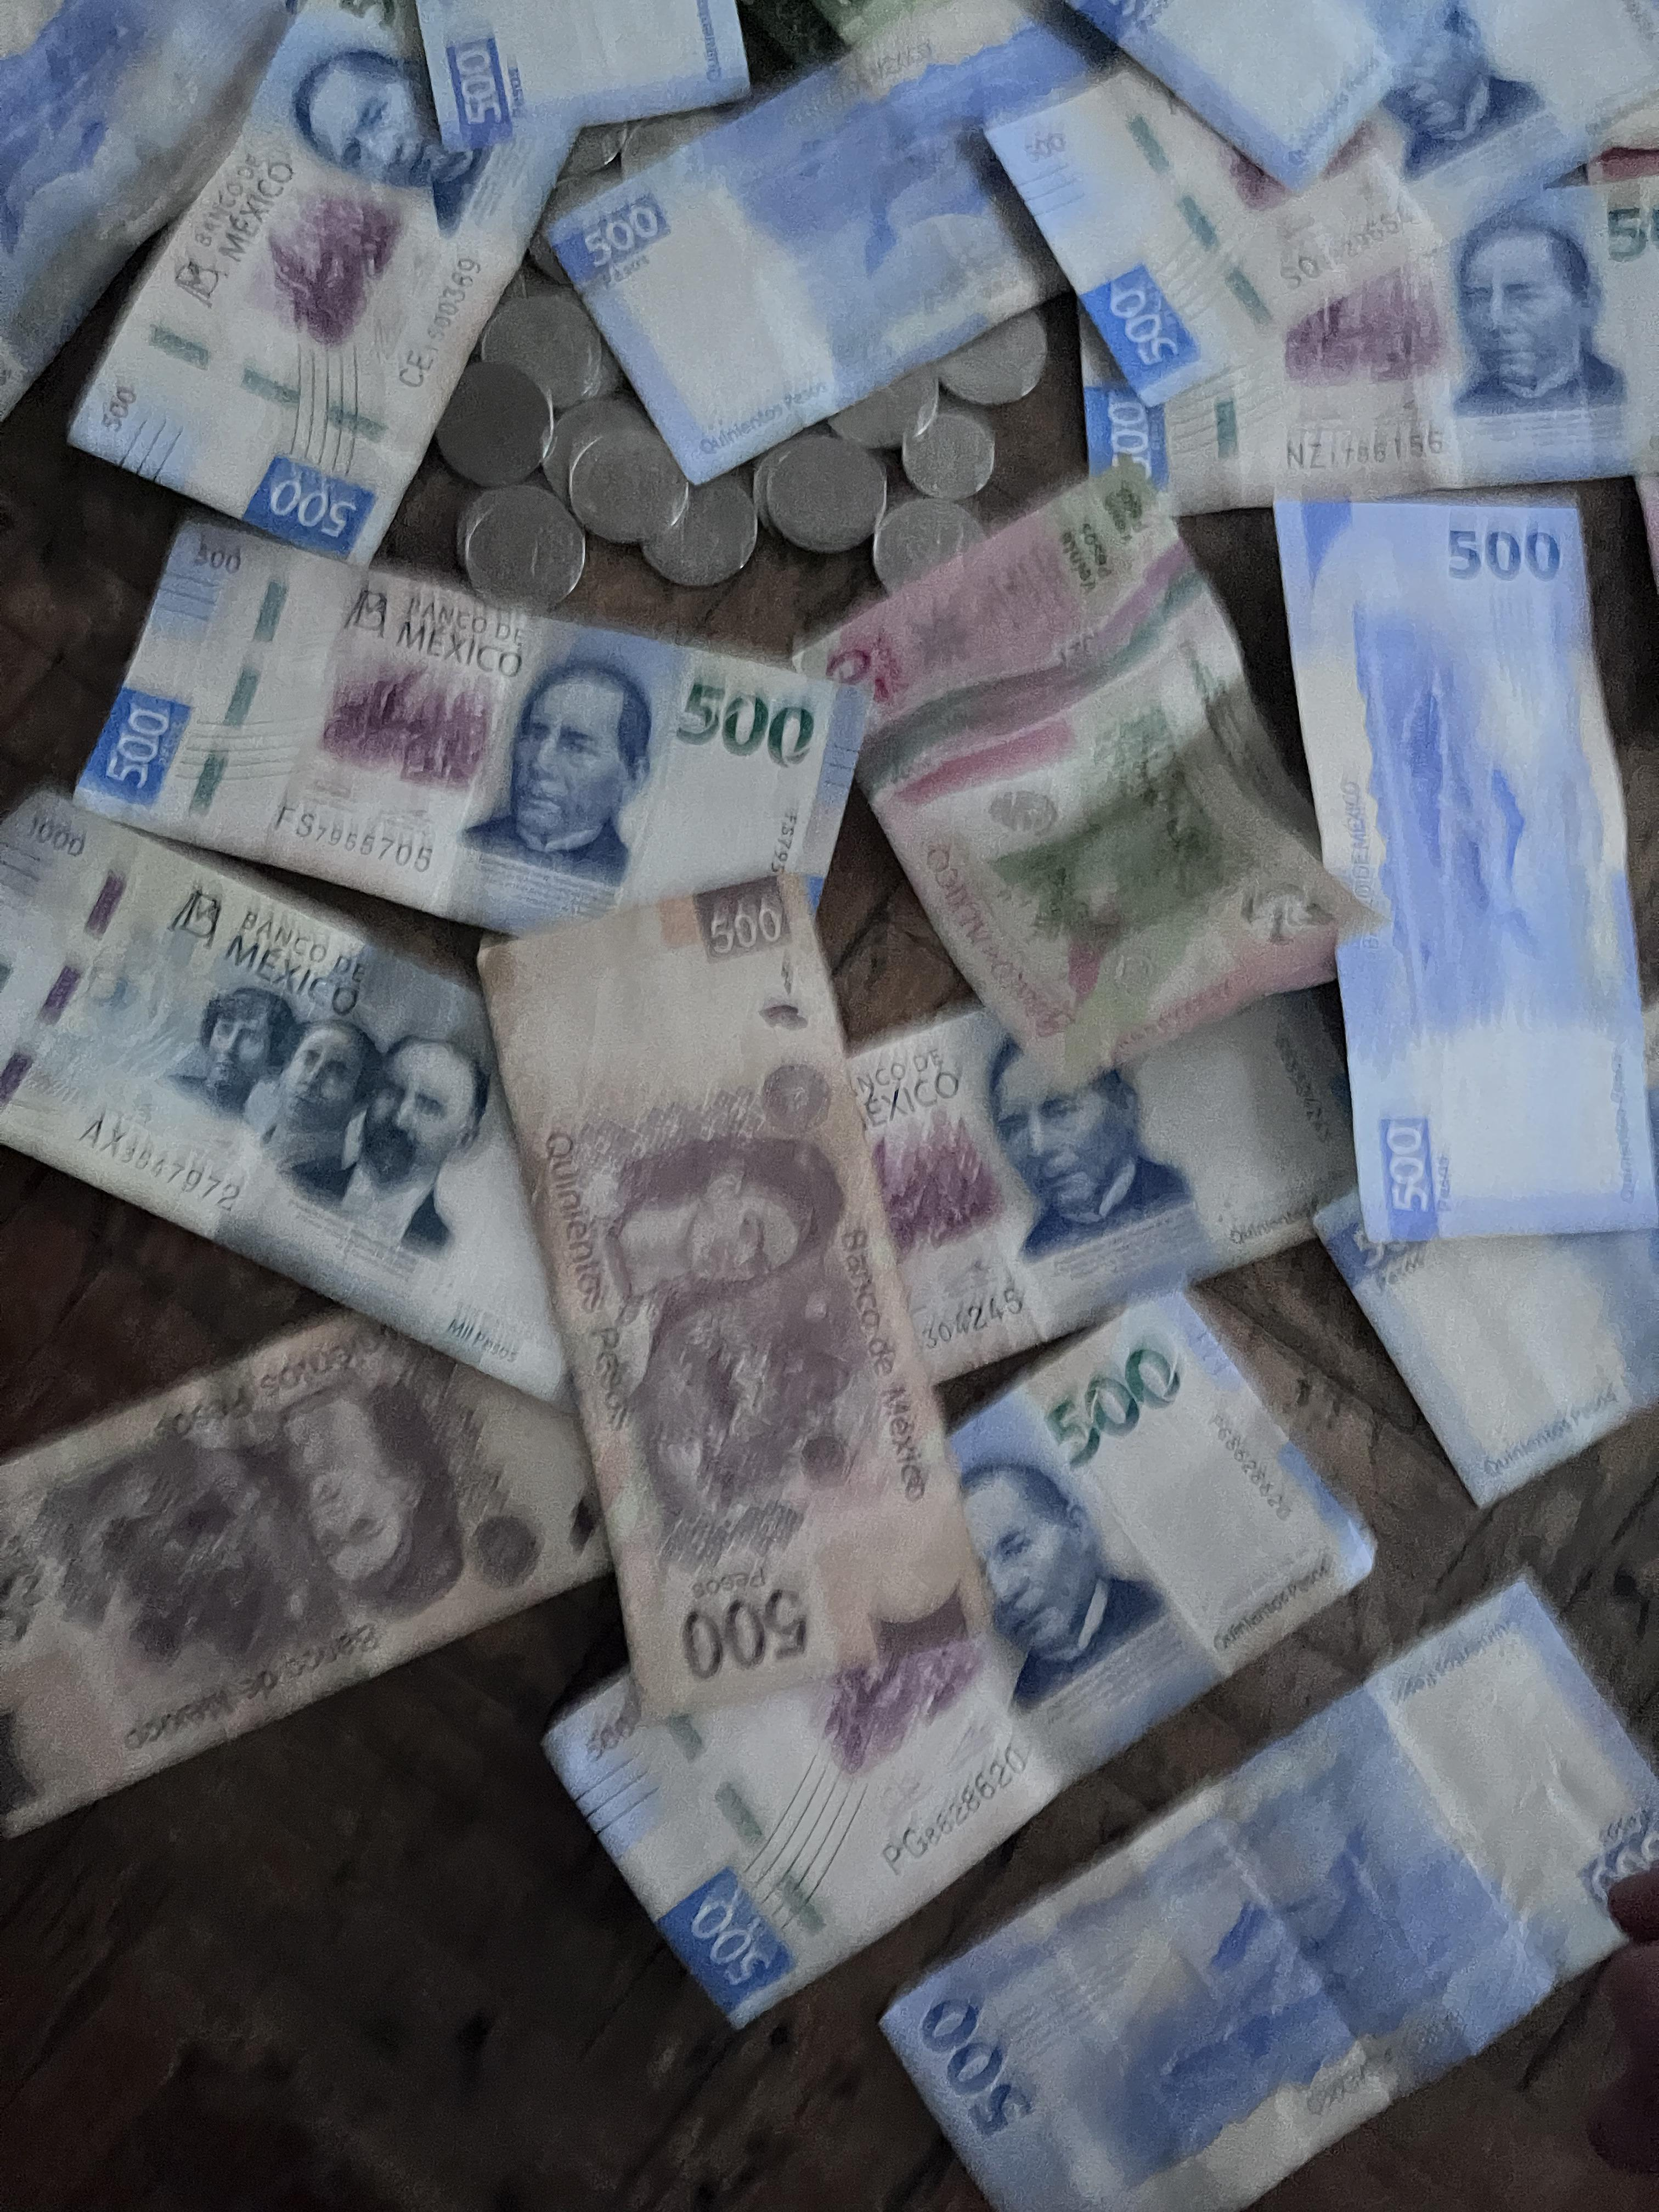1000: (0, 773, 653, 1425)
20: (774, 439, 1396, 1103)
500: (464, 862, 1019, 1714), (0, 1261, 633, 1881)
500 nuevo: (497, 1278, 1391, 2031), (859, 1571, 1659, 2212), (87, 502, 875, 1017), (526, 0, 1194, 467), (1267, 462, 1659, 1245), (965, 0, 1659, 404), (636, 979, 1434, 1315), (71, 3, 530, 547), (1047, 172, 1659, 514), (1279, 1050, 1659, 1557), (0, 0, 300, 529), (981, 0, 1490, 172), (422, 0, 758, 145)
